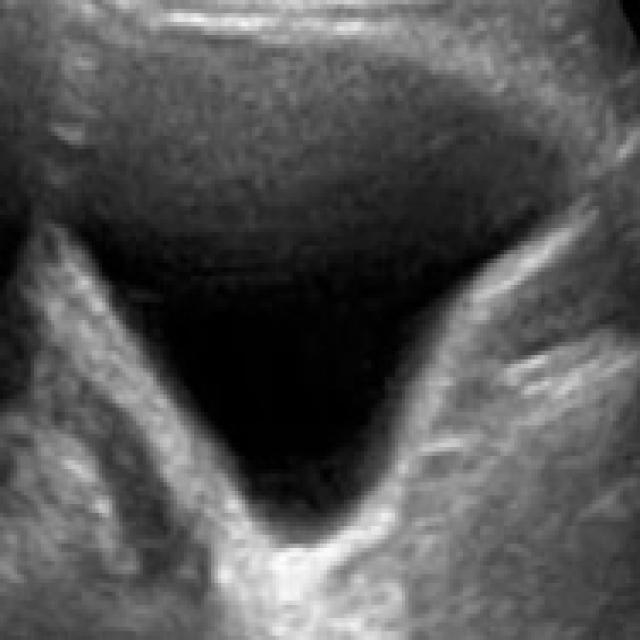bladder: (51, 5, 596, 592)
